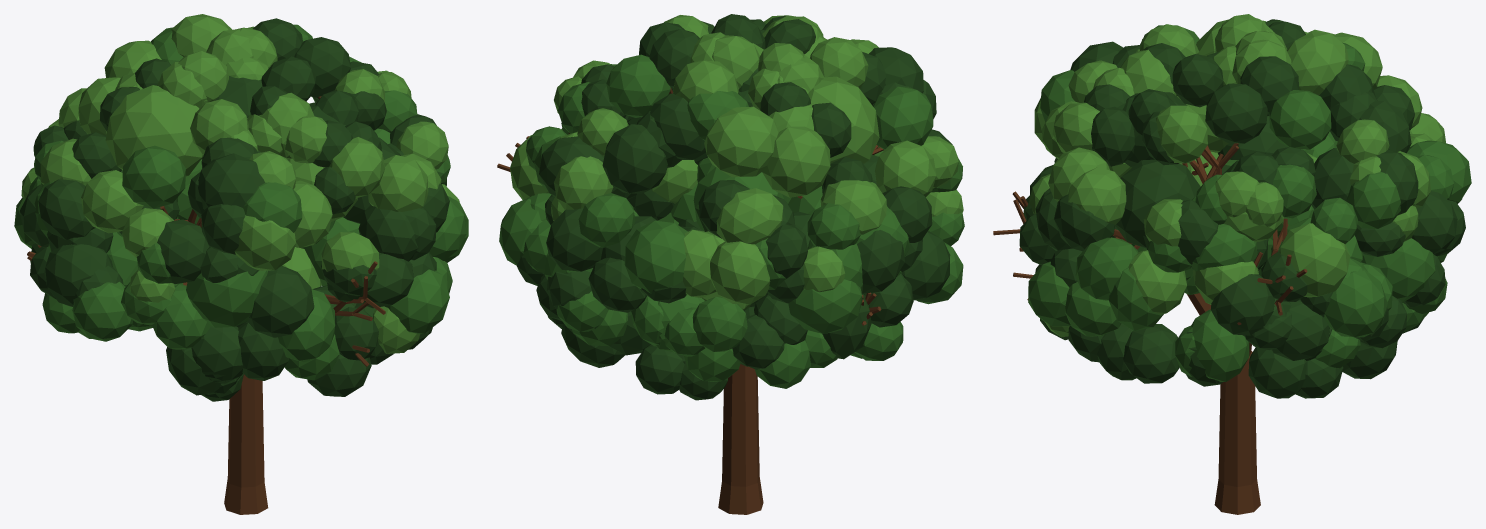
File: Arbol_LowPoly.fbx
The picture shows the model from 3 angles, left to right: view 1: azimuth 30°, elevation 25°; view 2: azimuth 150°, elevation 25°; view 3: azimuth 270°, elevation 25°; orthographic projection. The views are drawn at different scales.
Parts seen in each view (by area): view 1: Arbol_LowPoly; view 2: Arbol_LowPoly; view 3: Arbol_LowPoly.
Part boxes in pixels (bbox=[...]): Arbol_LowPoly: bbox=[14, 14, 468, 514]; Arbol_LowPoly: bbox=[497, 14, 964, 514]; Arbol_LowPoly: bbox=[993, 14, 1471, 514].
Bounding box in the file's own units: 7.53 × 8.1 × 7.44.
